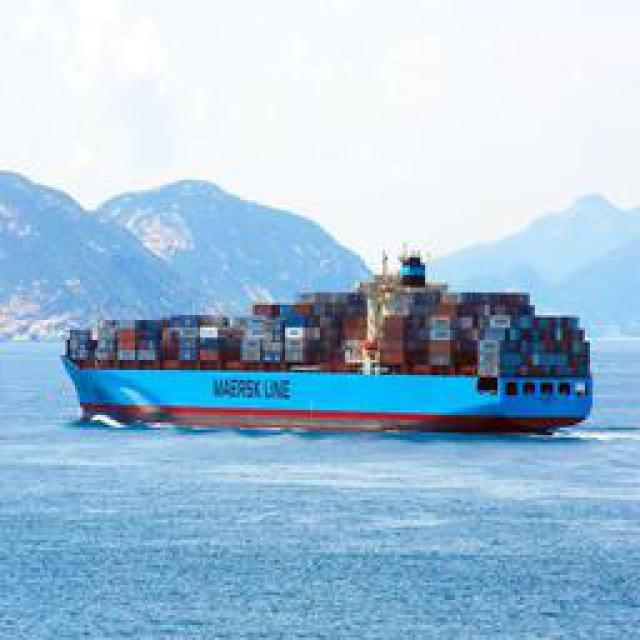Ship: (65, 271, 593, 439)
